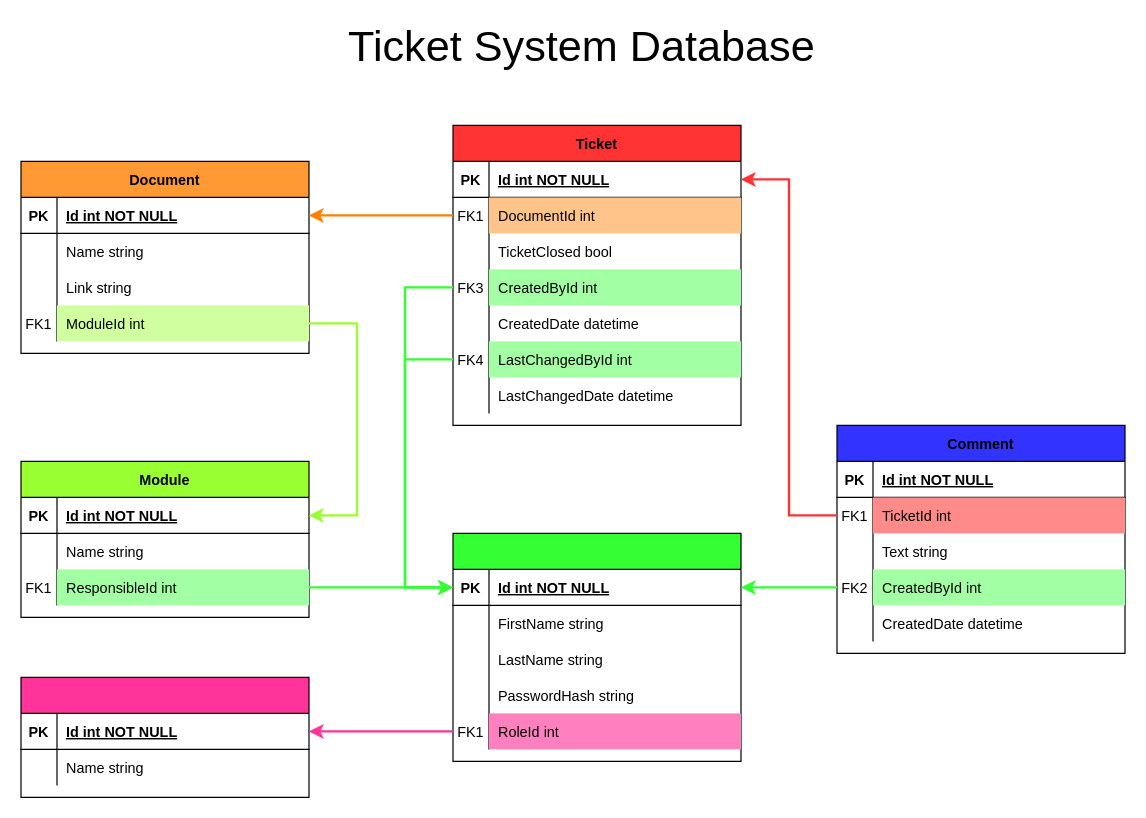
This 1146x818 diagram has some shape labels left out. The box of each missing label's shape, as (x1, y1, x2, y2) in pixels:
Role: (20, 676, 309, 797)
User: (452, 532, 741, 761)
